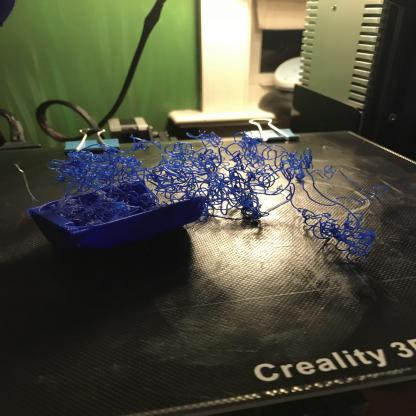fail: (66, 125, 391, 270)
